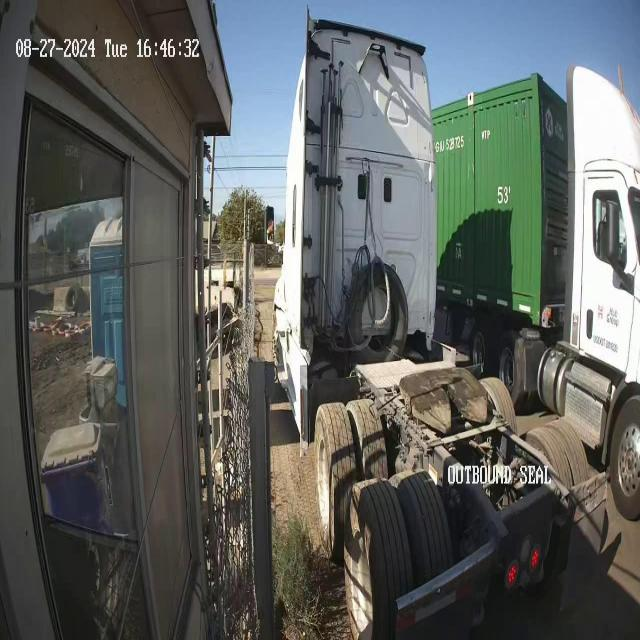TRUCK_IN: (431, 71, 640, 520)
TRUCK_OUT: (264, 10, 616, 640)
